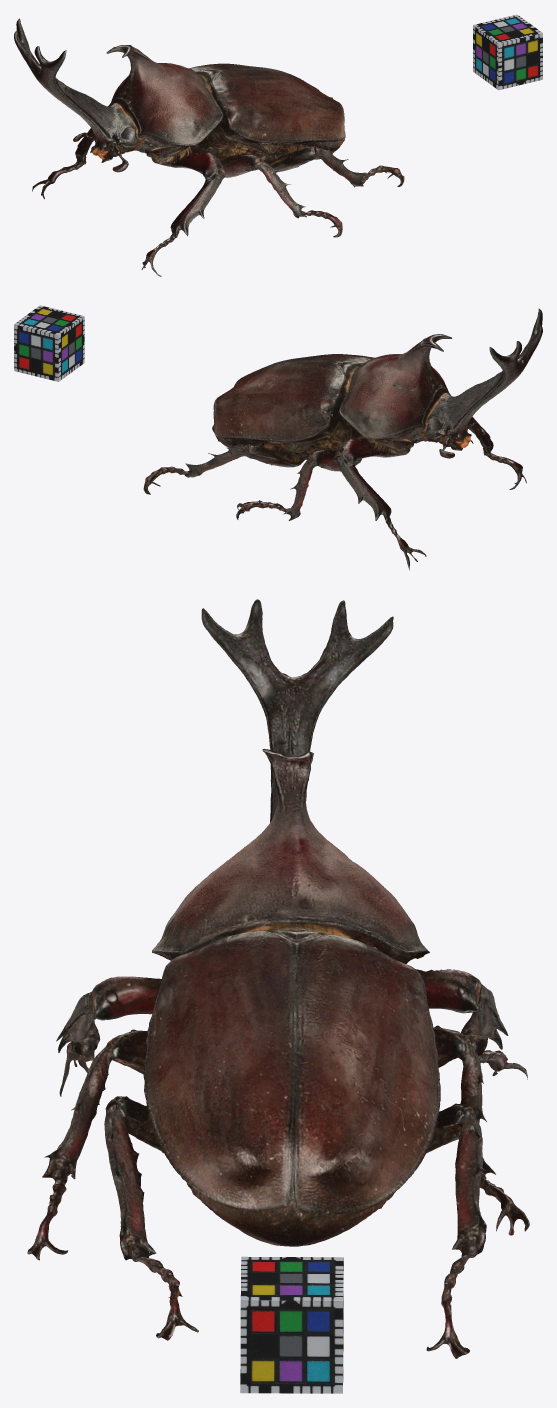
File: rhinoceros-beetle.glb
The picture shows the model from 3 angles, top to bottom: view 1: azimuth 30°, elevation 25°; view 2: azimuth 150°, elevation 25°; view 3: azimuth 270°, elevation 25°; orthographic projection. The views are drawn at different scales.
Parts seen in each view (by area): view 1: Object_6, Object_4; view 2: Object_6, Object_4; view 3: Object_6, Object_4.
Part boxes in pixels (box(x1,y1,x2,y2)): Object_6: box(14, 18, 404, 276); Object_4: box(473, 14, 542, 90); Object_6: box(143, 308, 542, 570); Object_4: box(14, 305, 84, 381); Object_6: box(27, 599, 529, 1358); Object_4: box(240, 1256, 343, 1393).
Bounding box in the file's own units: 0.11 × 0.0449 × 0.0475.
Materials: 2 (2 with a texture image).
